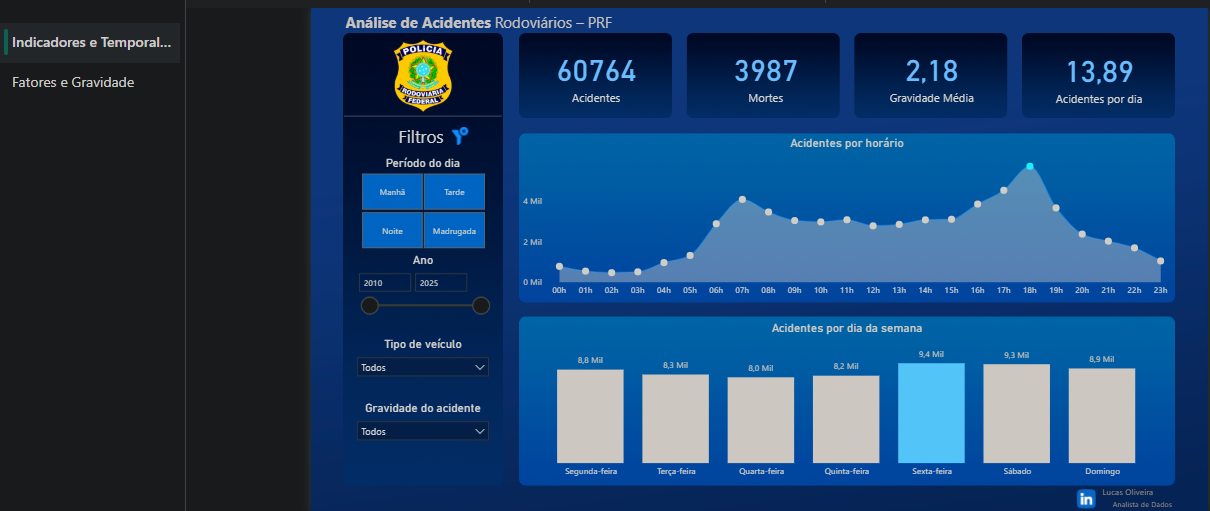

The page's visual inventory and layout, read from the dashboard file:
{"tool":"powerbi","page":{"name":"Indicadores e Temporaldiade","canvas":[1280,720],"ordinal":0},"visuals":[{"type":"card","title":"Total de Mortes","fields":{"Values":["f_acidentes.Total Mortes"]},"box":[546.3,41.3,204.6,108.9],"z":0},{"type":"card","fields":{"Values":["f_acidentes.Total Acidentes"]},"box":[302.4,41.3,208.6,108.9],"z":1000},{"type":"card","fields":{"Values":["f_acidentes.Indice Gravidade"]},"box":[783.1,38.3,204.6,114.9],"z":2000},{"type":"card","fields":{"Values":["f_acidentes.Média Acidentes por Dia"]},"box":[1021,41.3,205.6,111.9],"z":3000},{"type":"clusteredColumnChart","title":"Acidentes por dia da semana","fields":{"Category":["dim_tempo.dia_semana"],"Y":["f_acidentes.Total Acidentes"]},"box":[302.5,446.4,924,227.6],"z":4000},{"type":"areaChart","title":"Acidentes por horário","fields":{"Category":["dim_horario.Hora Formatada"],"Y":["f_acidentes.Total Acidentes"]},"box":[302.5,182.9,924,233.4],"z":5000},{"type":"slicer","title":"Ano","fields":{"Values":["dim_tempo.ano"]},"box":[56,349.7,208.3,108.1],"z":6000},{"type":"slicer","title":"Tipo de veículo","fields":{"Values":["dim_veiculo.tipo_veiculo"]},"box":[56,468.6,208.3,63.9],"z":7000},{"type":"slicer","title":"Período do dia","fields":{"Values":["f_acidentes.Fase Dia"]},"box":[47.2,205.3,225,144.4],"z":8000},{"type":"simpleImageEBC4593F96F1425FB3D84C5BF02B5075","fields":{"imageURL":["f_acidentes.Imagem"]},"box":[73.9,38.5,169,115.4],"z":9000},{"type":"textbox","box":[44.3,0,446.1,41.6],"z":10000},{"type":"shape","box":[47.7,144,224.7,20.4],"z":11000},{"type":"textbox","box":[1123.9,675.2,130.8,44.8],"z":12000},{"type":"textbox","box":[119.8,161.1,75.6,44.2],"z":13000},{"type":"actionButton","box":[195.5,166,34.4,34.4],"z":14000},{"type":"actionButton","box":[1088.4,679.8,35.4,40.3],"z":15000},{"type":"slicer","title":"Gravidade do acidente","fields":{"Values":["dim_classificacao.Classificação Visual"]},"box":[56,559.9,208.3,63.9],"z":16000}]}

Visuals, with their boxes on the page's 1280x720 design canvas (x1, y1, x2, y2). These are canvas units, not pixel positions in the 1210x511 screenshot, which may show the page scaled, cropped or inside an application window:
"Total de Mortes" card: {"x1": 546, "y1": 41, "x2": 751, "y2": 150}
card - f_acidentes.Total Acidentes: {"x1": 302, "y1": 41, "x2": 511, "y2": 150}
card - f_acidentes.Indice Gravidade: {"x1": 783, "y1": 38, "x2": 988, "y2": 153}
card - f_acidentes.Média Acidentes por Dia: {"x1": 1021, "y1": 41, "x2": 1227, "y2": 153}
"Acidentes por dia da semana" clusteredColumnChart: {"x1": 302, "y1": 446, "x2": 1226, "y2": 674}
"Acidentes por horário" areaChart: {"x1": 302, "y1": 183, "x2": 1226, "y2": 416}
"Ano" slicer: {"x1": 56, "y1": 350, "x2": 264, "y2": 458}
"Tipo de veículo" slicer: {"x1": 56, "y1": 469, "x2": 264, "y2": 532}
"Período do dia" slicer: {"x1": 47, "y1": 205, "x2": 272, "y2": 350}
simpleImageEBC4593F96F1425FB3D84C5BF02B5075 - f_acidentes.Imagem: {"x1": 74, "y1": 38, "x2": 243, "y2": 154}
textbox: {"x1": 44, "y1": 0, "x2": 490, "y2": 42}
shape: {"x1": 48, "y1": 144, "x2": 272, "y2": 164}
textbox: {"x1": 1124, "y1": 675, "x2": 1255, "y2": 720}
textbox: {"x1": 120, "y1": 161, "x2": 195, "y2": 205}
actionButton: {"x1": 196, "y1": 166, "x2": 230, "y2": 200}
actionButton: {"x1": 1088, "y1": 680, "x2": 1124, "y2": 720}
"Gravidade do acidente" slicer: {"x1": 56, "y1": 560, "x2": 264, "y2": 624}
